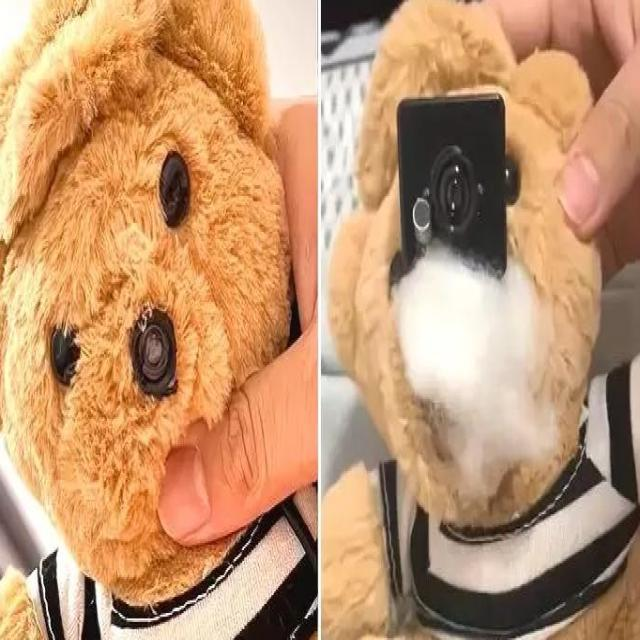hidden camera: (139, 322, 170, 383), (443, 169, 468, 218)
